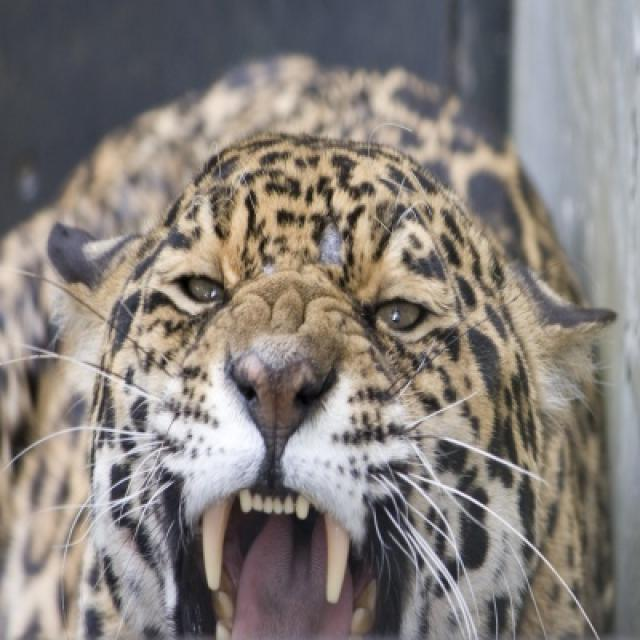Jaguar: (0, 54, 618, 638)
